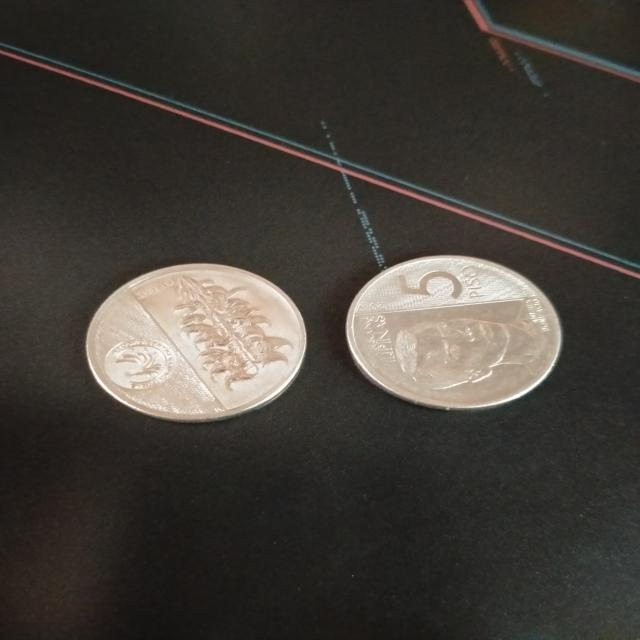5_New_Back: (168, 267, 296, 394)
5_New_Front: (383, 256, 491, 308)
